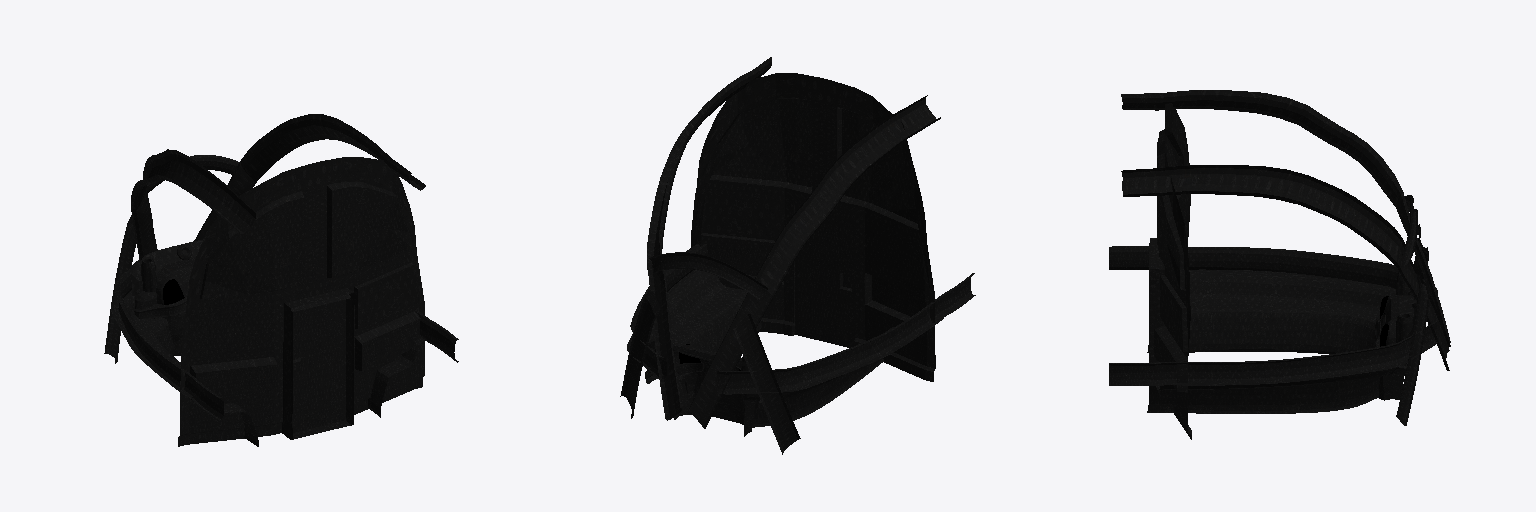
3 renders of one model, left to right at view 1: azimuth 30°, elevation 25°; view 2: azimuth 150°, elevation 25°; view 3: azimuth 270°, elevation 25°, orthographic.
Visible parts, largest first — view 1: group2 BackCockpitPanelExposed2, group2 CockpitBase1, group2 cockpitDoor, CockpitCenter2 group2; view 2: group2 BackCockpitPanelExposed2, group2 CockpitBase1, group2 cockpitDoor, CockpitCenter2 group2; view 3: group2 CockpitBase1, group2 BackCockpitPanelExposed2, CockpitCenter2 group2, group2 cockpitDoor.
Boxes of the visible parts, x1=… form: group2 BackCockpitPanelExposed2: x1=178, y1=157, x2=424, y2=446; group2 CockpitBase1: x1=104, y1=114, x2=458, y2=446; group2 cockpitDoor: x1=284, y1=288, x2=353, y2=439; CockpitCenter2 group2: x1=132, y1=239, x2=203, y2=355; group2 BackCockpitPanelExposed2: x1=691, y1=73, x2=935, y2=381; group2 CockpitBase1: x1=620, y1=57, x2=975, y2=454; group2 cockpitDoor: x1=795, y1=205, x2=855, y2=347; CockpitCenter2 group2: x1=645, y1=341, x2=763, y2=436; group2 CockpitBase1: x1=1109, y1=90, x2=1450, y2=425; group2 BackCockpitPanelExposed2: x1=1149, y1=103, x2=1191, y2=439; CockpitCenter2 group2: x1=1374, y1=273, x2=1424, y2=400; group2 cockpitDoor: x1=1150, y1=238, x2=1162, y2=362.
Size of the model in its own units: 463 by 484 by 556.
5 materials, 1 textured.